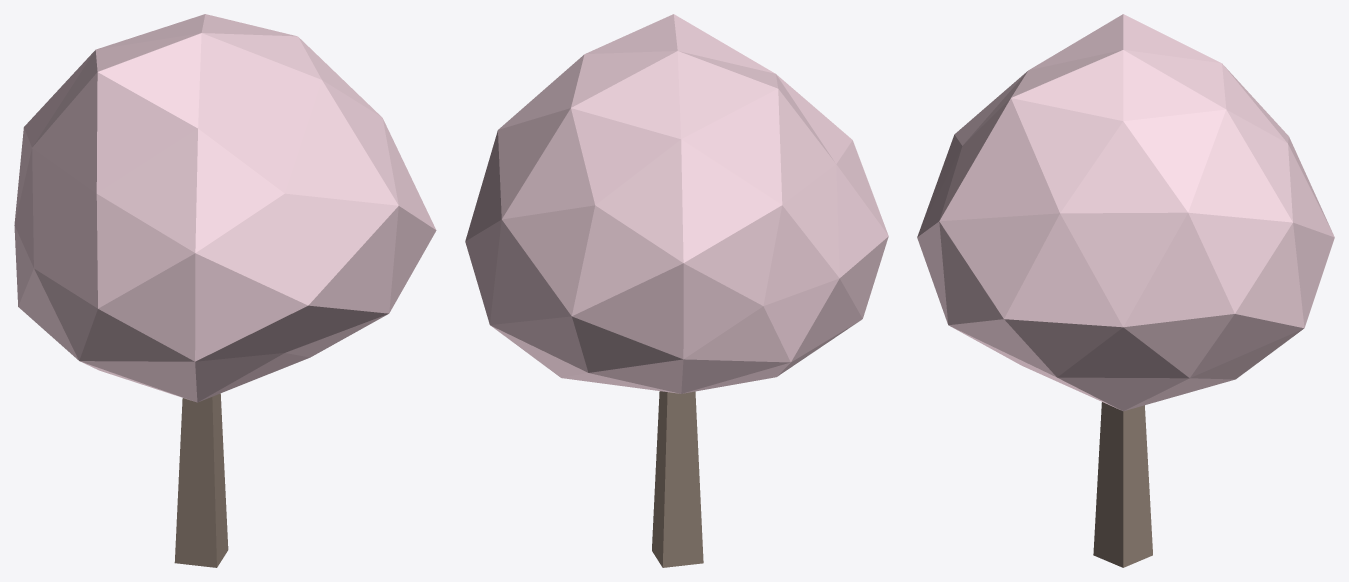
File: tree-blossom-b-far.glb
3 renders of one model, left to right at view 1: azimuth 30°, elevation 25°; view 2: azimuth 150°, elevation 25°; view 3: azimuth 270°, elevation 25°, orthographic. The views are drawn at different scales.
Parts seen in each view (by area): view 1: tree-blossom-b-far; view 2: tree-blossom-b-far; view 3: tree-blossom-b-far.
Part boxes in pixels (x1,y1,x2,y2): tree-blossom-b-far: (14,14,436,567); tree-blossom-b-far: (465,14,888,567); tree-blossom-b-far: (917,14,1334,567).
Bounding box in the file's own units: 0.7108 × 0.9931 × 0.7438.
